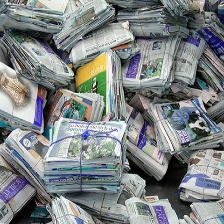news_paper: (44, 116, 130, 196), (47, 165, 150, 224), (0, 114, 65, 207), (0, 20, 75, 94), (113, 97, 172, 183), (141, 94, 223, 153), (117, 30, 181, 98), (73, 48, 126, 124), (0, 54, 50, 134), (42, 80, 106, 138), (64, 19, 142, 66), (49, 0, 116, 54), (0, 142, 40, 224), (109, 4, 194, 41), (174, 143, 224, 205), (165, 24, 208, 91), (0, 0, 67, 41), (119, 189, 183, 224), (44, 195, 105, 224), (190, 10, 224, 55), (197, 45, 224, 92), (180, 197, 224, 224), (153, 0, 203, 21)
